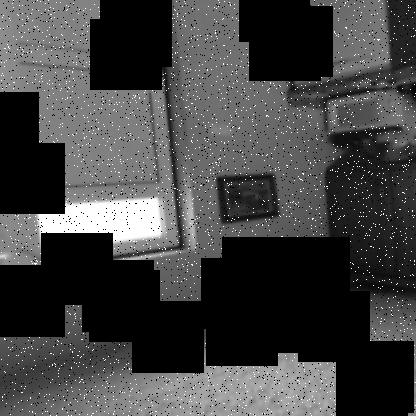Porte: (0, 1, 183, 282)
